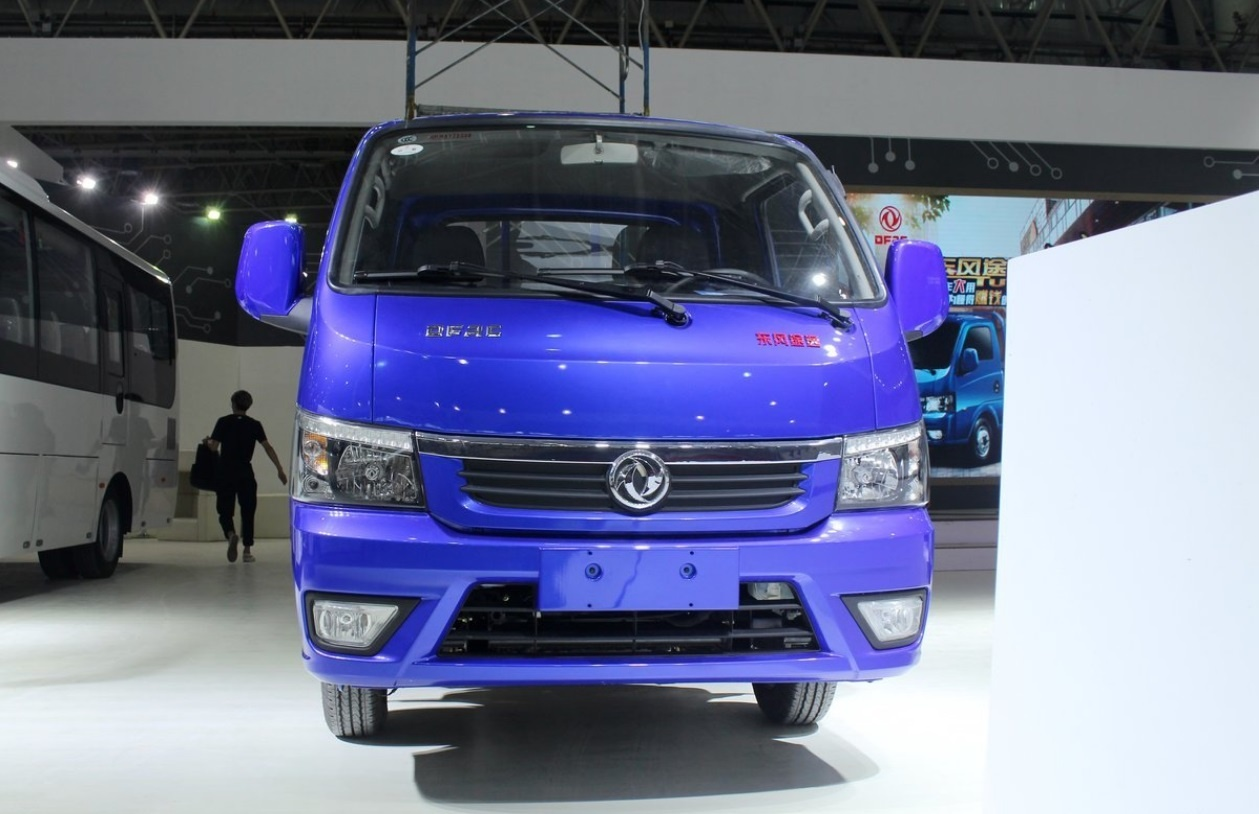minibus: (204, 98, 988, 752)
